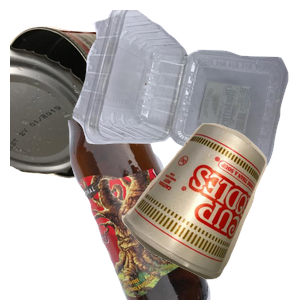glass: (65, 120, 300, 300)
metal: (10, 23, 193, 194)
plastic: (70, 10, 300, 171)
trash: (119, 121, 300, 300)
